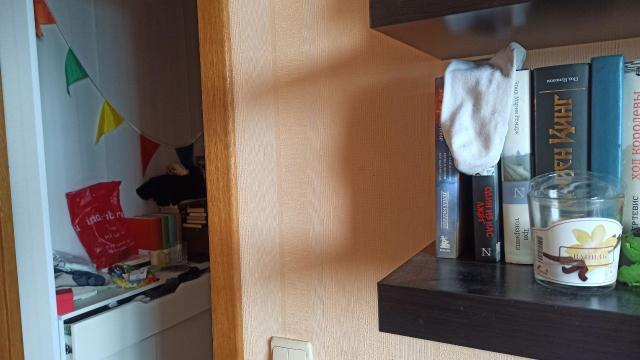book-s-spine: (534, 63, 590, 263), (496, 69, 533, 264), (592, 55, 624, 265), (469, 72, 498, 262), (435, 75, 457, 259), (621, 60, 640, 265), (152, 217, 162, 265), (168, 215, 177, 262), (162, 216, 169, 264), (176, 214, 182, 260)
